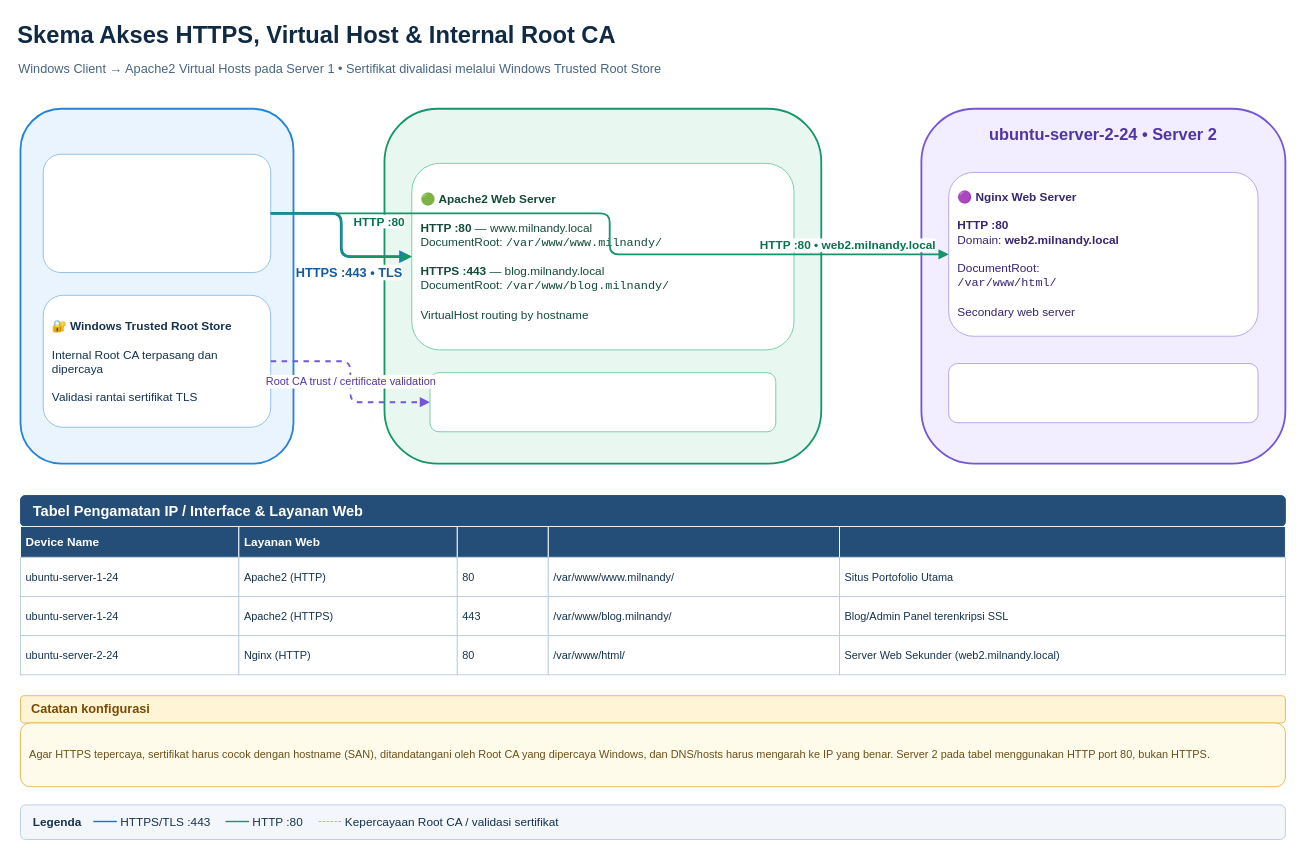
Image size: 1301x855. Some labels were removed from this diagram. Each missing label, with the box of its shape:
Catatan: (839, 526, 1285, 557)
Document Root Direktori: (547, 526, 839, 557)
HTTP service on port 80 Separate host / service: (948, 363, 1258, 423)
Port: (456, 526, 548, 557)
ubuntu-server-1-24 • Server 1: (383, 107, 822, 464)
Windows Host / Client: (19, 107, 294, 464)
🌐 Web Browser Akses domain: www.milnandy.local blog.milnandy.local HTTPS :443: (42, 153, 271, 273)
🔏 TLS certificate for blog.milnandy.local Signed by internal Root CA: (429, 372, 776, 432)
